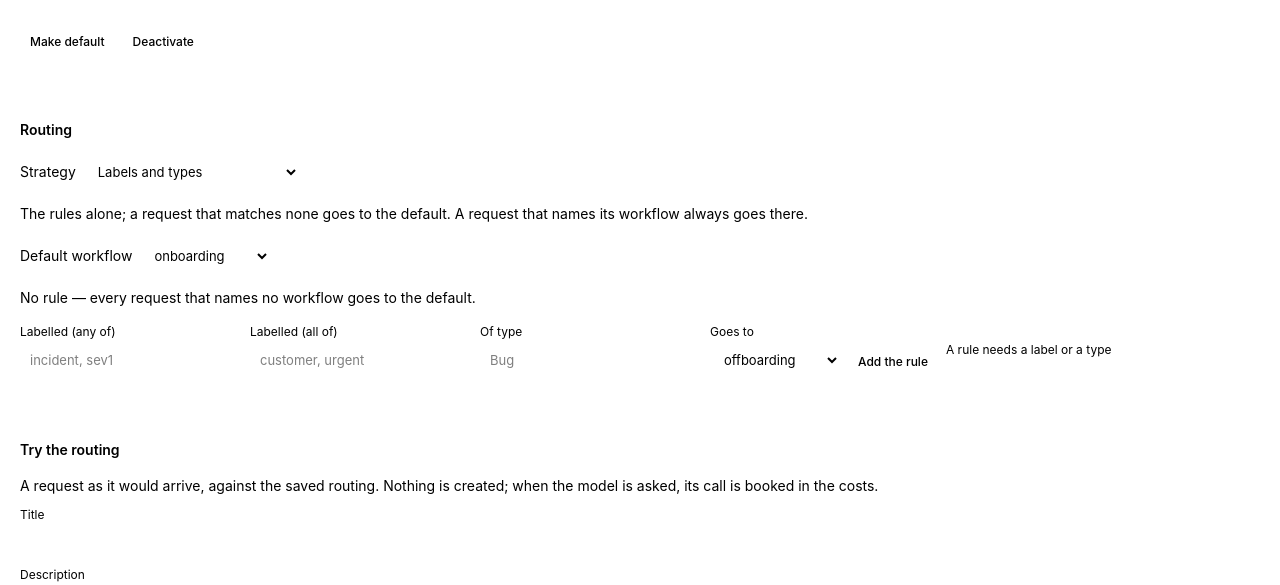
Scenario: the routing editor edits a rule in place › a rule on labels_all alone can be added
(page scrolled)
Expected: the form named "New routing rule" is shown, x1=20 y1=324 x2=1260 y2=376
Step 1. Type "hr, leaver" into the field labelled "Labelled (all of)" → (361, 360), box x1=250 y1=344 x2=472 y2=376
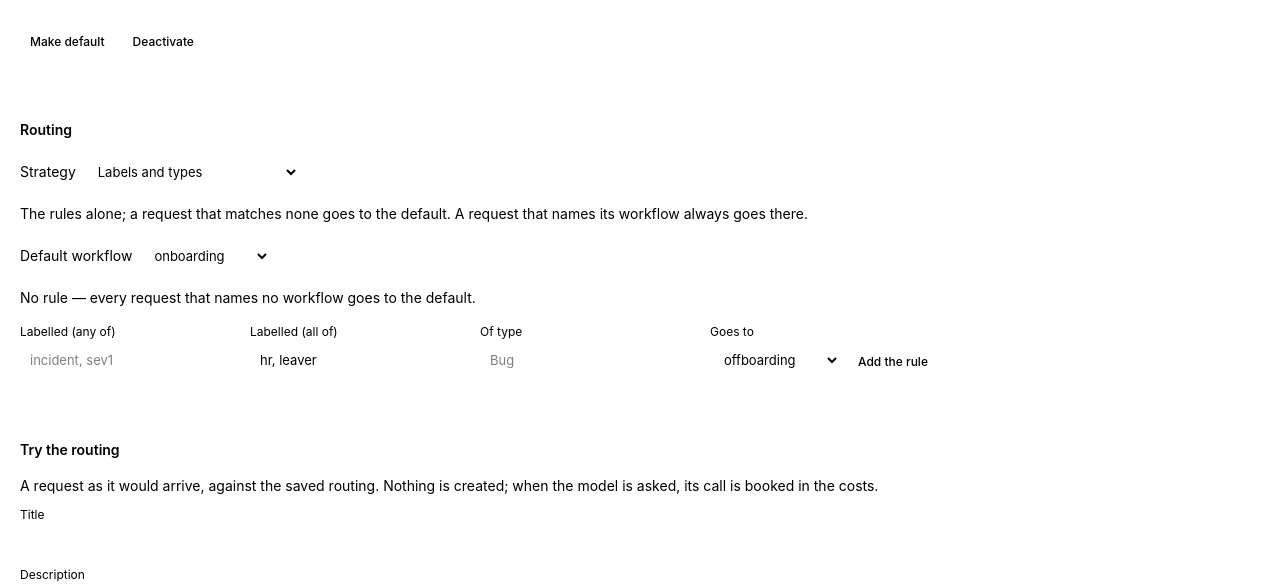
Step 2. Click the button "Add the rule" → (893, 362), box x1=848 y1=348 x2=938 y2=376
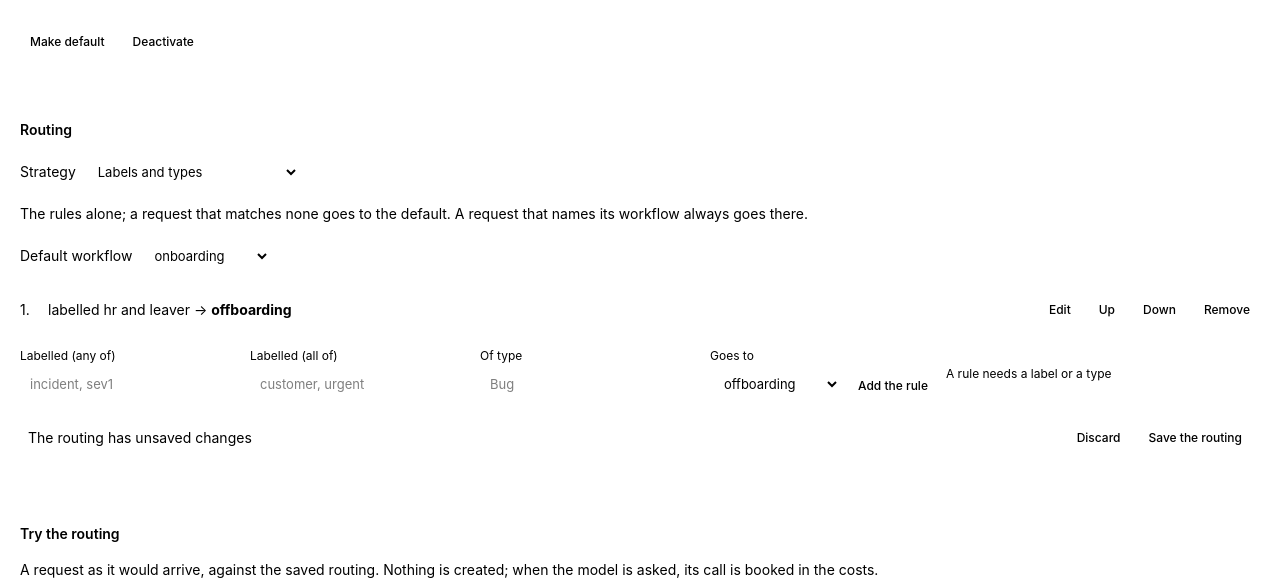
Expected: the list named "Routing rules" shows "labelled hr and leaver → offboarding", x1=20 y1=288 x2=1260 y2=332
